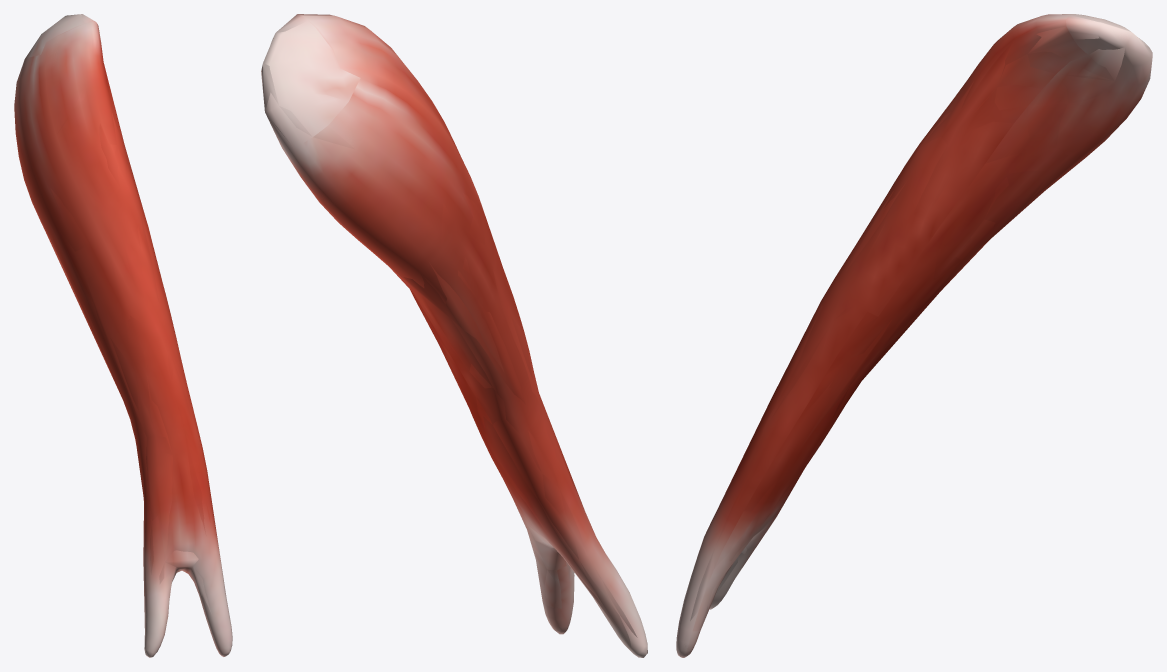
File: R Supraspinatus.fbx
3 views of the same model, side by side, from view 1: azimuth 30°, elevation 25°; view 2: azimuth 150°, elevation 25°; view 3: azimuth 270°, elevation 25° (orthographic). The views are drawn at different scales.
Visible parts, largest first — view 1: R Supraspinatus, R Supraspinatus low; view 2: R Supraspinatus, R Supraspinatus low; view 3: R Supraspinatus, R Supraspinatus low.
Boxes of the visible parts, <box> form: R Supraspinatus: <box>14,14,232,657</box>; R Supraspinatus low: <box>14,14,226,635</box>; R Supraspinatus: <box>261,14,647,657</box>; R Supraspinatus low: <box>263,15,637,646</box>; R Supraspinatus: <box>676,14,1152,657</box>; R Supraspinatus low: <box>685,15,1151,654</box>.
Size of the model in its own units: 7.26 by 37.39 by 24.74.
